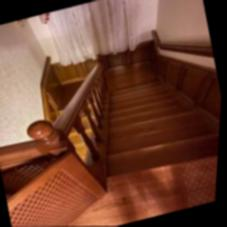Animal: (89, 82, 223, 187)
